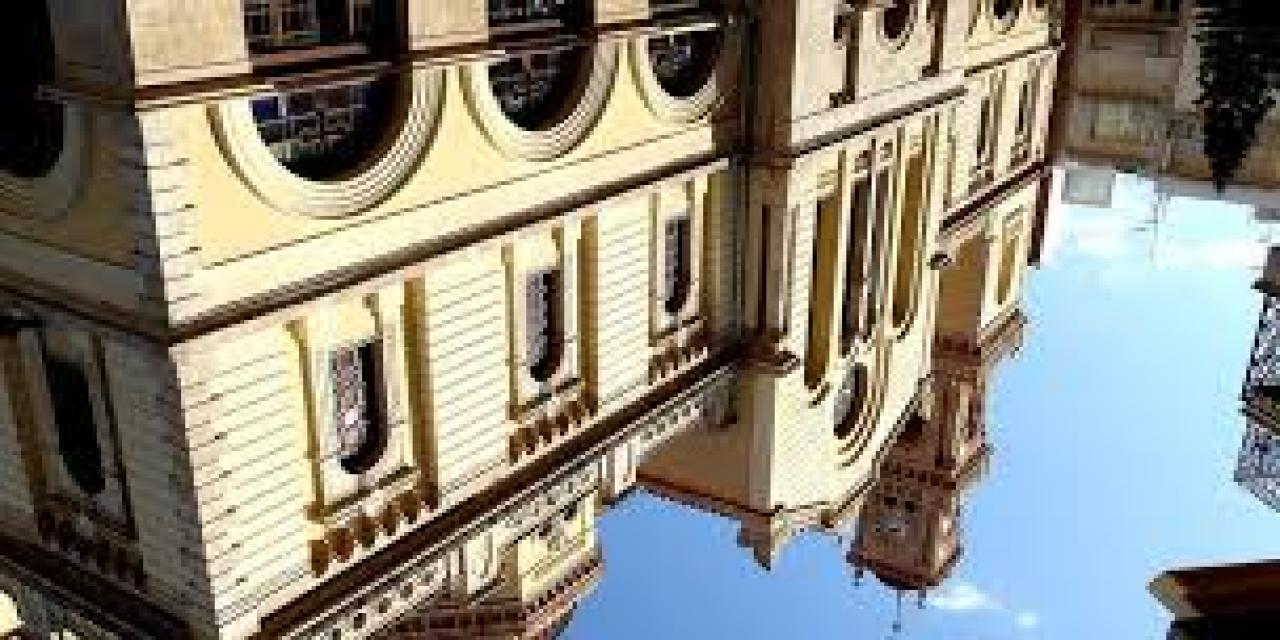Agios Minas: (3, 1, 1084, 638)
